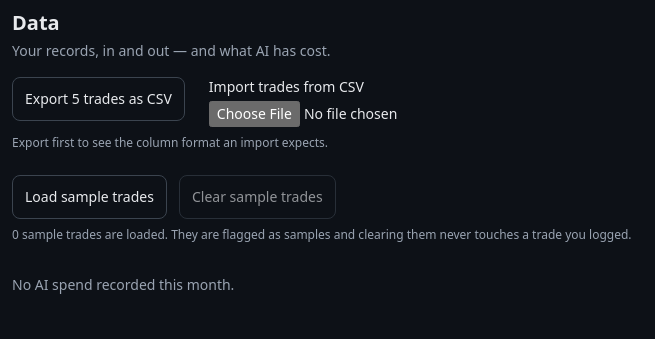
it: sample trades › loads samples and updates the counts
Click the button "Load sample trades".
click(90, 197)  # box left=12, top=175, right=167, bottom=219
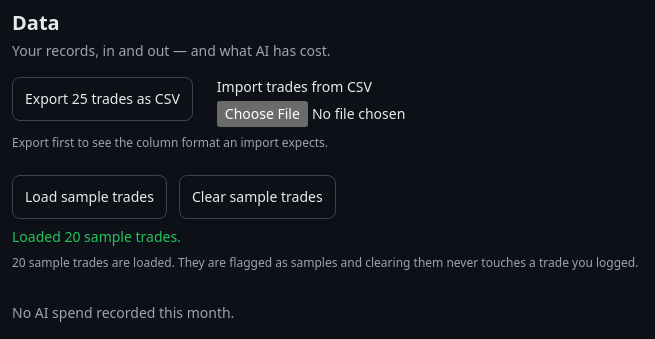
Expected: the message reads "Loaded 20 sample trades.", left=12, top=227, right=181, bottom=246
Expected: the button "Export 25 trades as CSV" is shown, left=12, top=77, right=193, bottom=121
